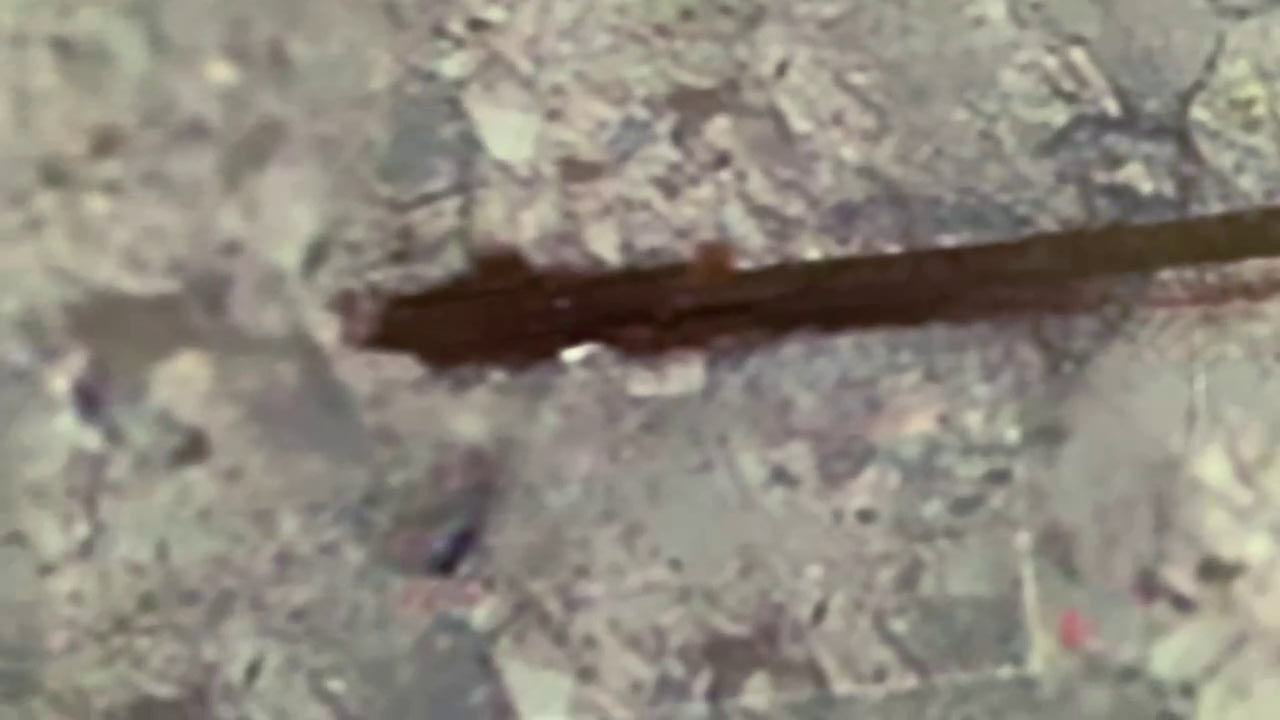Exposed reinforcement: (357, 203, 1280, 373)
